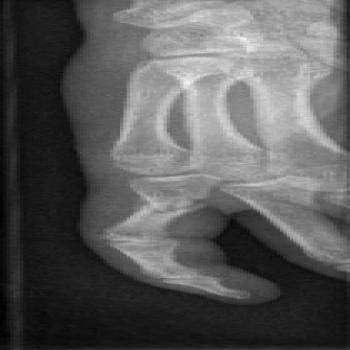Fracture: (123, 195, 208, 218)
